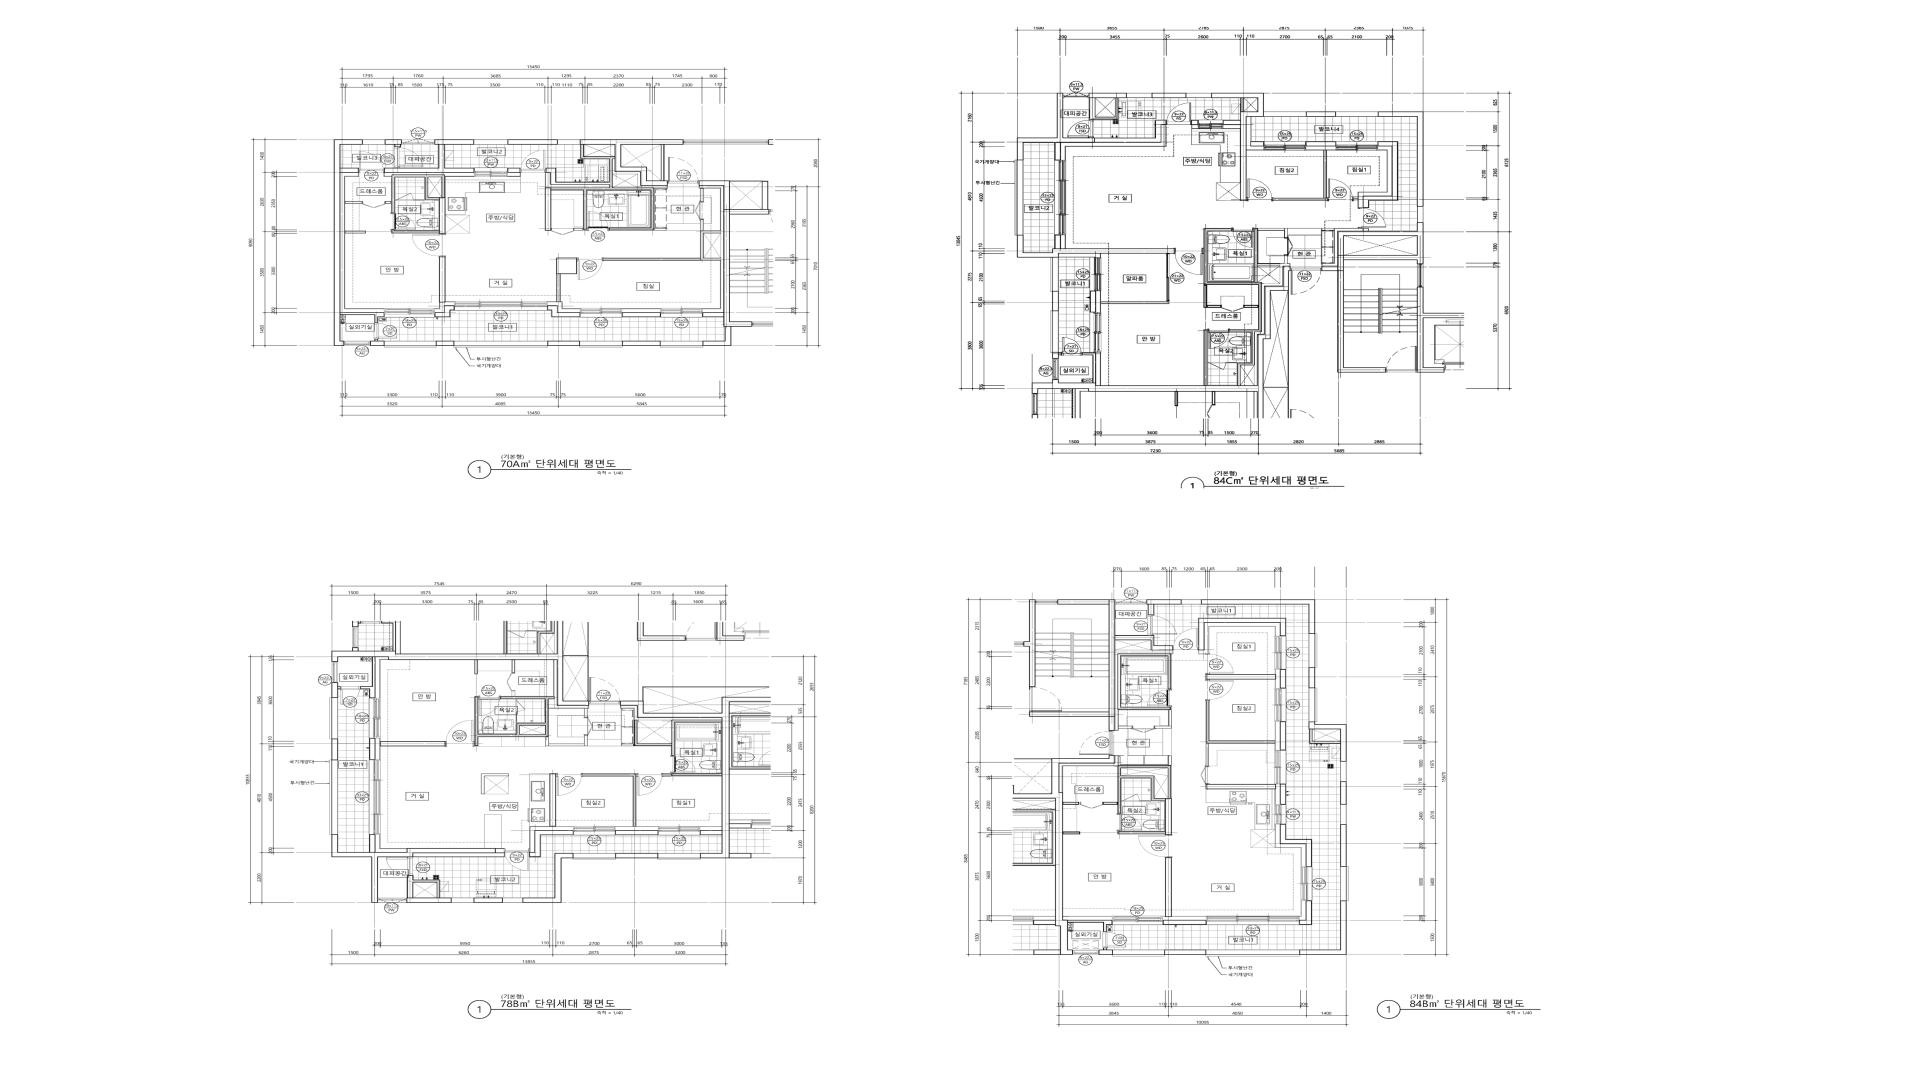door: (1291, 266, 1321, 294), (1174, 248, 1204, 276), (667, 157, 699, 183), (1029, 687, 1062, 712), (1080, 731, 1112, 756), (413, 233, 446, 257), (1138, 835, 1172, 857), (446, 720, 475, 746), (589, 678, 620, 703), (1172, 628, 1199, 650), (520, 150, 546, 173), (1205, 679, 1233, 700), (1147, 616, 1176, 636), (394, 148, 423, 167), (504, 848, 529, 870), (576, 258, 603, 280), (1246, 179, 1273, 200), (1328, 179, 1354, 200), (636, 774, 662, 795), (1205, 654, 1233, 674), (1358, 208, 1386, 228), (359, 152, 384, 173), (1166, 103, 1191, 124), (556, 774, 582, 795), (386, 857, 413, 876), (1067, 120, 1095, 137), (587, 211, 609, 231), (477, 696, 500, 716), (1118, 814, 1142, 832), (671, 756, 695, 774), (1233, 228, 1254, 248), (1207, 330, 1229, 348), (1147, 690, 1171, 707), (1062, 338, 1083, 356), (1102, 932, 1126, 948), (392, 214, 415, 229), (375, 323, 397, 339), (1208, 363, 1237, 371), (1166, 253, 1170, 302), (695, 200, 704, 220), (1284, 236, 1292, 256), (1133, 727, 1155, 733), (1080, 802, 1102, 808), (551, 228, 574, 235), (363, 202, 385, 208), (1221, 305, 1244, 311), (1201, 766, 1209, 785), (506, 673, 514, 691), (584, 717, 592, 736), (1121, 794, 1139, 802), (396, 193, 413, 200), (516, 699, 525, 712)
wall: (1031, 266, 1290, 418), (331, 621, 589, 705), (1029, 600, 1172, 731), (620, 698, 729, 858), (1321, 223, 1424, 373), (1204, 228, 1290, 386), (1055, 756, 1116, 955), (331, 835, 504, 903), (699, 181, 769, 345), (334, 140, 384, 345), (1017, 92, 1166, 160), (545, 145, 654, 231), (340, 173, 384, 313), (1212, 92, 1265, 200), (603, 220, 720, 261), (1102, 766, 1172, 835), (580, 140, 683, 186), (1205, 700, 1275, 766), (1116, 650, 1172, 731), (1378, 112, 1424, 207), (475, 696, 554, 746), (1418, 287, 1464, 373), (1201, 600, 1315, 634), (1017, 235, 1174, 257), (699, 186, 724, 313), (384, 140, 475, 173), (1117, 654, 1171, 709), (582, 774, 636, 827), (1273, 150, 1328, 200), (1199, 618, 1286, 650), (1358, 141, 1398, 208), (1199, 622, 1280, 654), (522, 853, 572, 903), (1300, 901, 1346, 955), (1263, 291, 1288, 388), (549, 659, 589, 717), (1059, 756, 1118, 793), (392, 174, 444, 214), (1321, 228, 1364, 266), (1308, 723, 1346, 762), (613, 160, 667, 187), (620, 705, 721, 720), (1344, 236, 1418, 256), (1280, 824, 1312, 866), (1275, 824, 1305, 866), (406, 876, 451, 903), (529, 831, 574, 857), (529, 827, 574, 852), (1089, 98, 1118, 120), (1029, 600, 1035, 687), (1146, 600, 1182, 616), (481, 774, 509, 794), (376, 835, 406, 852), (376, 657, 388, 699), (546, 736, 587, 746), (1257, 266, 1280, 284), (1166, 857, 1172, 916), (1205, 674, 1276, 679), (1205, 785, 1276, 790), (413, 882, 436, 898), (413, 853, 504, 857), (384, 173, 475, 177), (547, 306, 580, 316), (547, 302, 580, 313), (550, 774, 556, 827), (380, 741, 446, 746), (556, 257, 576, 274), (1299, 901, 1312, 926), (1155, 709, 1171, 729), (439, 257, 446, 302), (1305, 141, 1336, 150), (1340, 824, 1346, 866), (1101, 301, 1170, 305), (508, 140, 558, 145), (1089, 291, 1101, 313), (439, 198, 446, 233), (1163, 920, 1207, 926), (616, 853, 658, 858), (1204, 330, 1208, 385), (1164, 949, 1205, 955), (435, 306, 455, 316), (435, 302, 455, 313), (1063, 916, 1113, 920), (1089, 92, 1126, 98), (392, 229, 439, 233), (1153, 92, 1187, 98), (1163, 916, 1207, 920), (615, 827, 658, 831), (615, 831, 658, 835), (1305, 112, 1336, 117), (1280, 721, 1286, 750), (1275, 721, 1280, 750), (473, 898, 502, 903), (622, 309, 661, 313), (622, 342, 661, 345), (622, 313, 661, 316), (1340, 782, 1346, 804), (661, 145, 665, 181), (1308, 667, 1315, 688), (369, 738, 376, 760), (331, 738, 338, 760), (385, 140, 402, 148), (331, 683, 340, 698), (1299, 901, 1305, 920), (1052, 291, 1059, 311), (547, 342, 579, 345), (508, 167, 520, 177), (556, 274, 560, 302), (1280, 785, 1286, 804), (1275, 785, 1280, 804), (1280, 670, 1286, 688), (1275, 670, 1280, 688), (1098, 948, 1113, 955), (371, 339, 384, 345), (376, 738, 380, 760), (700, 827, 721, 831), (1191, 120, 1199, 129), (436, 342, 454, 345), (345, 231, 365, 233), (700, 189, 704, 202), (345, 202, 363, 204), (1052, 352, 1059, 359), (731, 181, 762, 182), (475, 659, 477, 674), (1241, 98, 1244, 112), (512, 659, 514, 673), (621, 744, 634, 746), (654, 228, 666, 231), (1168, 756, 1171, 766), (574, 228, 584, 231), (385, 202, 392, 204), (413, 199, 425, 200), (1139, 800, 1150, 802), (1353, 198, 1358, 200), (512, 691, 514, 696), (516, 712, 517, 723), (1059, 352, 1062, 355)
window: (1207, 916, 1299, 926), (369, 760, 380, 835), (1055, 160, 1065, 235), (455, 302, 547, 310), (1205, 949, 1300, 956), (454, 342, 547, 348), (1015, 160, 1023, 236), (330, 760, 338, 835), (384, 309, 435, 318), (1089, 313, 1101, 352), (1113, 916, 1163, 926), (369, 698, 380, 738), (1089, 257, 1101, 291), (1263, 141, 1305, 150), (1336, 141, 1378, 150), (661, 309, 703, 318), (580, 309, 622, 318), (1050, 311, 1059, 352), (1302, 866, 1312, 901), (1275, 750, 1286, 785), (1275, 636, 1286, 670), (1275, 688, 1286, 721), (384, 342, 436, 348), (1113, 949, 1164, 956), (658, 827, 700, 835), (574, 827, 615, 835), (330, 698, 338, 738), (1308, 688, 1317, 723), (1340, 866, 1349, 901), (1050, 257, 1059, 291), (1308, 634, 1317, 667), (475, 167, 508, 177), (579, 342, 622, 348), (572, 853, 616, 860), (661, 342, 703, 348), (658, 853, 700, 860), (1199, 120, 1224, 129), (1336, 112, 1378, 117), (1275, 804, 1286, 824), (402, 138, 434, 145), (378, 898, 407, 905), (473, 140, 508, 145), (1263, 112, 1305, 116), (1116, 599, 1146, 604), (1418, 264, 1424, 287), (331, 662, 338, 683), (1126, 92, 1153, 98), (1063, 92, 1089, 98), (1052, 359, 1059, 380), (1187, 92, 1212, 98), (1340, 762, 1346, 782), (1340, 804, 1346, 824), (451, 898, 473, 903), (363, 140, 385, 145), (558, 140, 580, 145), (502, 898, 522, 903), (1418, 207, 1424, 223), (344, 342, 371, 345), (1073, 951, 1098, 955), (1035, 600, 1058, 604), (1182, 600, 1201, 604)
